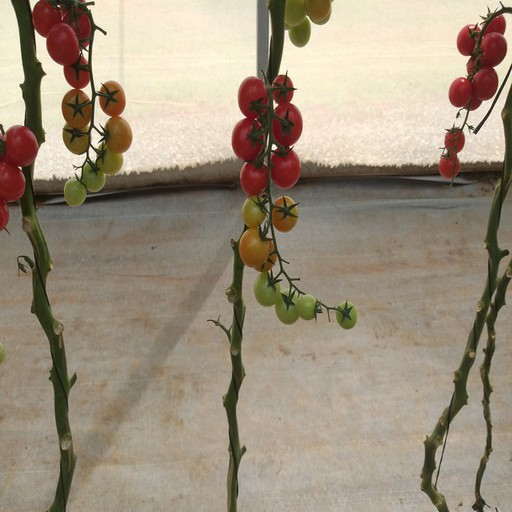green tomato bunch: (268, 1, 334, 48)
mixed tomato bunch: (33, 1, 131, 207)
red tomato bunch: (232, 75, 298, 269), (439, 14, 505, 178), (1, 125, 36, 231)
